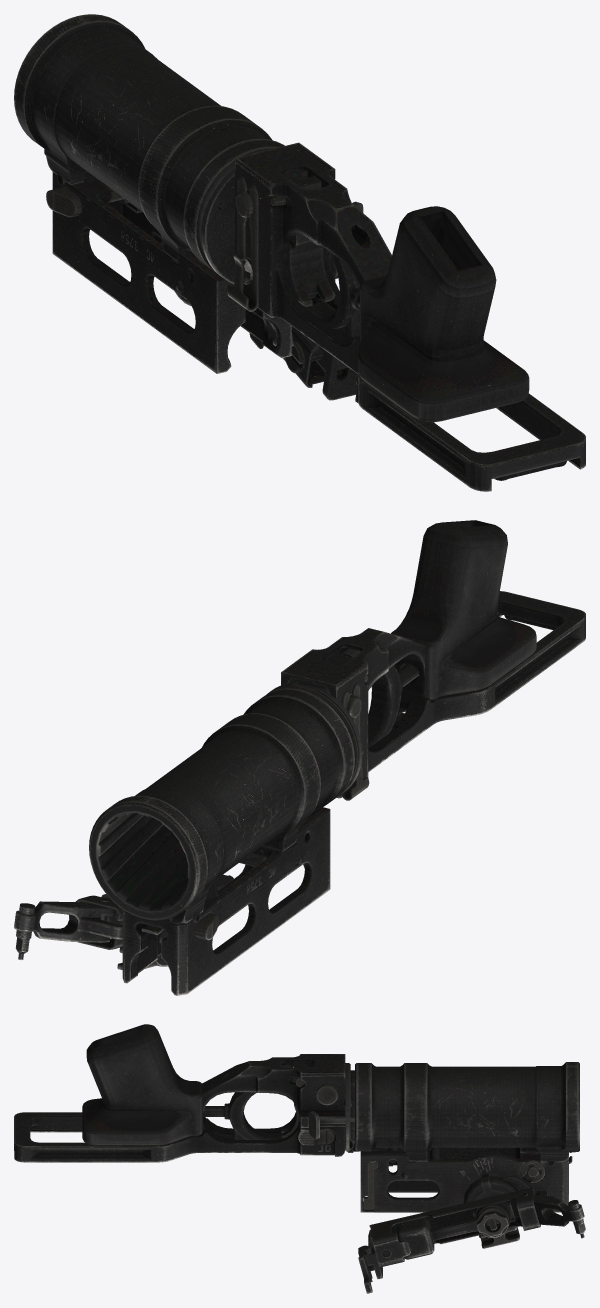
3 renders of one model, top to bottom at view 1: azimuth 30°, elevation 25°; view 2: azimuth 150°, elevation 25°; view 3: azimuth 270°, elevation 25°, orthographic. The views are drawn at different scales.
Visible parts, largest first — view 1: TW_62e7e7bbe6da9612f743f1e0_range250_PZ_Import; view 2: TW_62e7e7bbe6da9612f743f1e0_range250_PZ_Import; view 3: TW_62e7e7bbe6da9612f743f1e0_range250_PZ_Import.
Boxes of the visible parts, left/top/right/bottom form: TW_62e7e7bbe6da9612f743f1e0_range250_PZ_Import: left=14, top=14, right=585, bottom=491; TW_62e7e7bbe6da9612f743f1e0_range250_PZ_Import: left=14, top=520, right=585, bottom=995; TW_62e7e7bbe6da9612f743f1e0_range250_PZ_Import: left=14, top=1024, right=585, bottom=1293.
Size of the model in its own units: 0.0529 by 0.1869 by 0.0785.
Materials: 1 (1 with a texture image).
